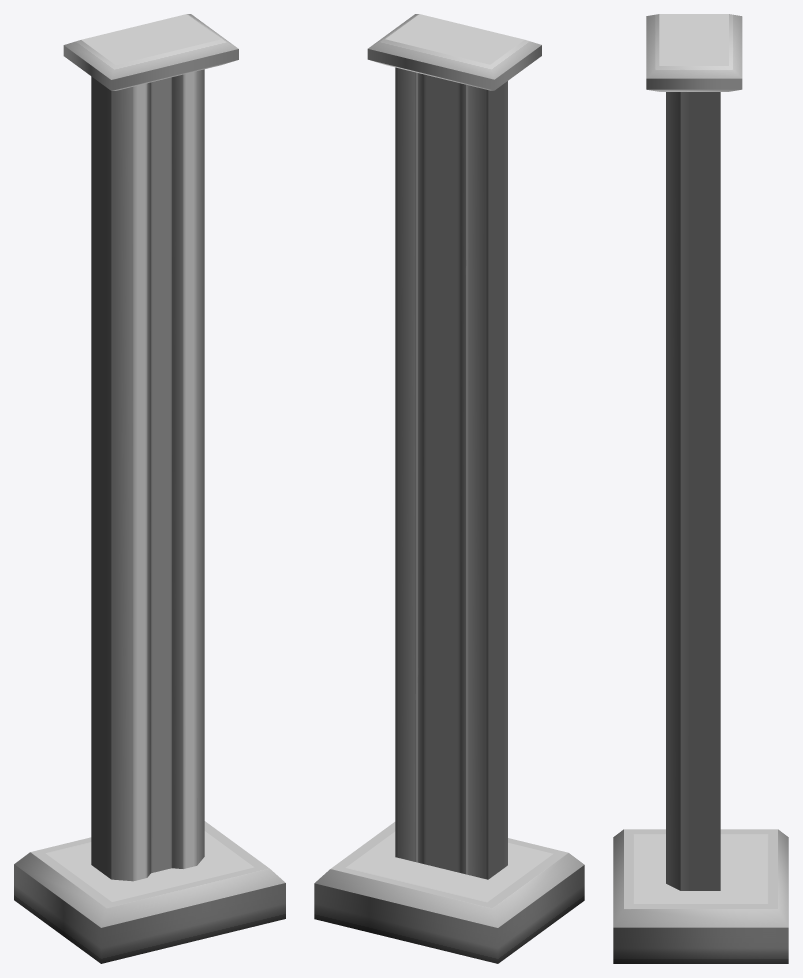
The model's file is target_path_static.glb.
3 views of the same model, side by side, from view 1: azimuth 30°, elevation 25°; view 2: azimuth 150°, elevation 25°; view 3: azimuth 270°, elevation 25° (orthographic).
Parts seen in each view (by area): view 1: target_vertical_ramp, target_vertical_stand, target_vertical_stand001; view 2: target_vertical_ramp, target_vertical_stand, target_vertical_stand001; view 3: target_vertical_ramp, target_vertical_stand, target_vertical_stand001.
Part boxes in pixels (x1,y1,x2,y2): target_vertical_ramp: [91, 69, 204, 881]; target_vertical_stand: [14, 821, 285, 963]; target_vertical_stand001: [63, 14, 238, 90]; target_vertical_ramp: [395, 67, 507, 879]; target_vertical_stand: [314, 822, 584, 963]; target_vertical_stand001: [367, 14, 541, 90]; target_vertical_ramp: [666, 92, 720, 890]; target_vertical_stand: [613, 829, 788, 963]; target_vertical_stand001: [646, 14, 742, 91].
Size of the model in its own units: 0.7852 by 3.55 by 0.6411.
Materials: 3 (3 with a texture image).
